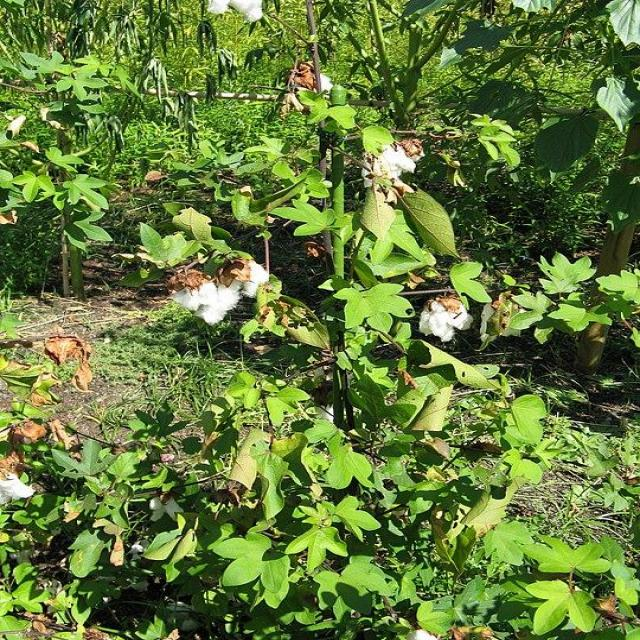Early_blight: (161, 249, 273, 327), (359, 130, 427, 184), (415, 289, 479, 345), (279, 60, 337, 100), (0, 461, 33, 514)
